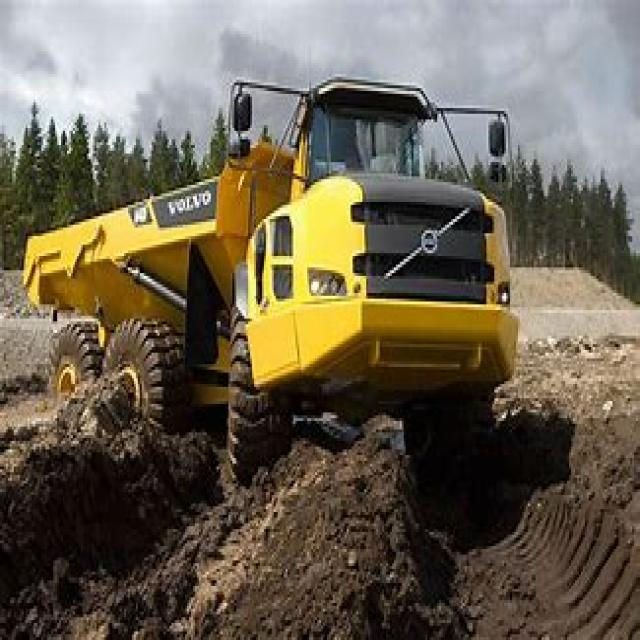dump_truck: (16, 57, 528, 492)
